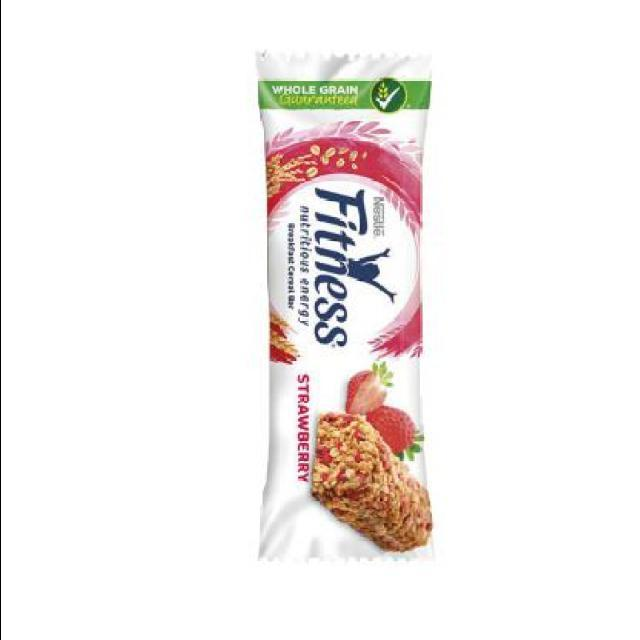Cereal bar: (243, 32, 445, 576)
